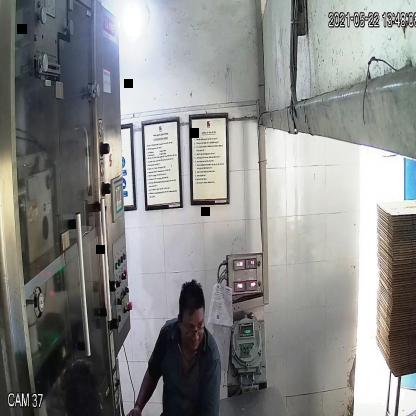goggles: (176, 316, 207, 342)
